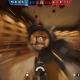Character: (36, 40, 39, 46)
Friend_label: (28, 60, 34, 63), (32, 62, 36, 66), (7, 43, 11, 45)
Head: (38, 40, 39, 40)
